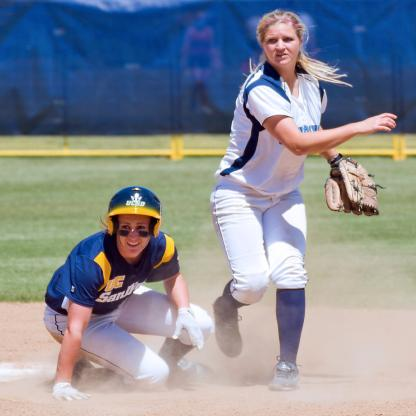Helmet: (102, 189, 162, 240)
